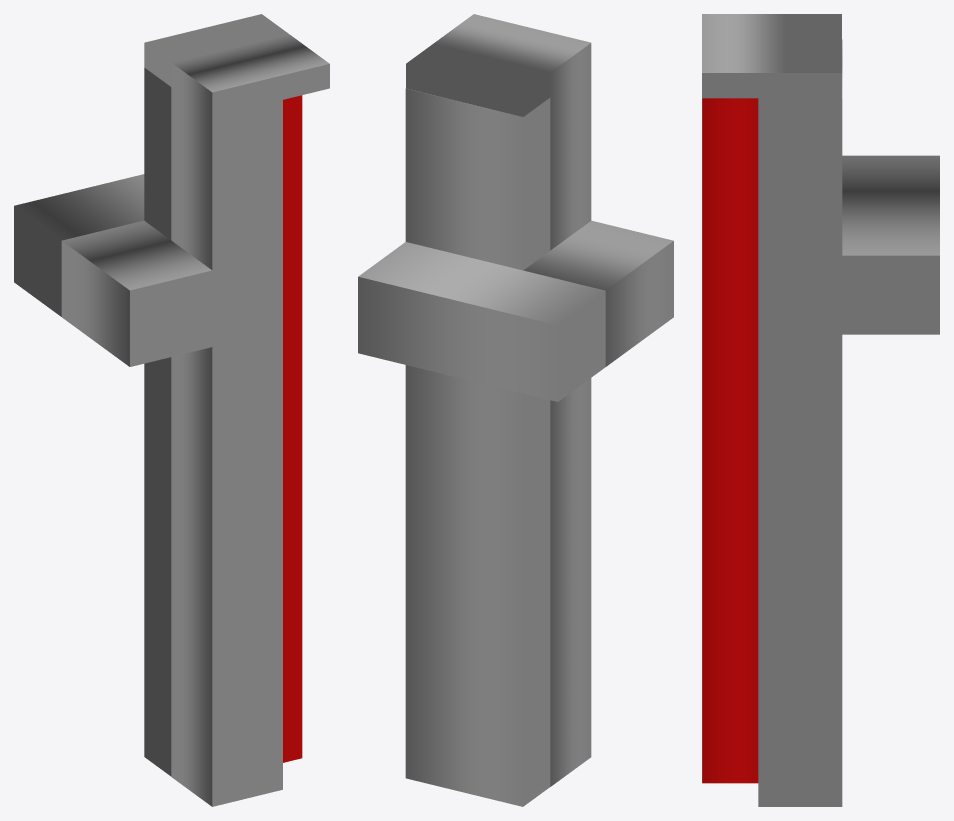
Rendered from AanrechtModularCornerOutside.fbx.
3 views of the same model, side by side, from view 1: azimuth 30°, elevation 25°; view 2: azimuth 150°, elevation 25°; view 3: azimuth 270°, elevation 25° (orthographic). The views are drawn at different scales.
Visible parts, largest first — view 1: AanrechtModularCornerOutward; view 2: AanrechtModularCornerOutward; view 3: AanrechtModularCornerOutward.
Part boxes in pixels (x1,y1,x2,y2): AanrechtModularCornerOutward: (14, 14, 329, 806); AanrechtModularCornerOutward: (358, 14, 673, 806); AanrechtModularCornerOutward: (702, 14, 939, 806).
Size of the model in its own units: 2.12 by 7.25 by 2.13.
